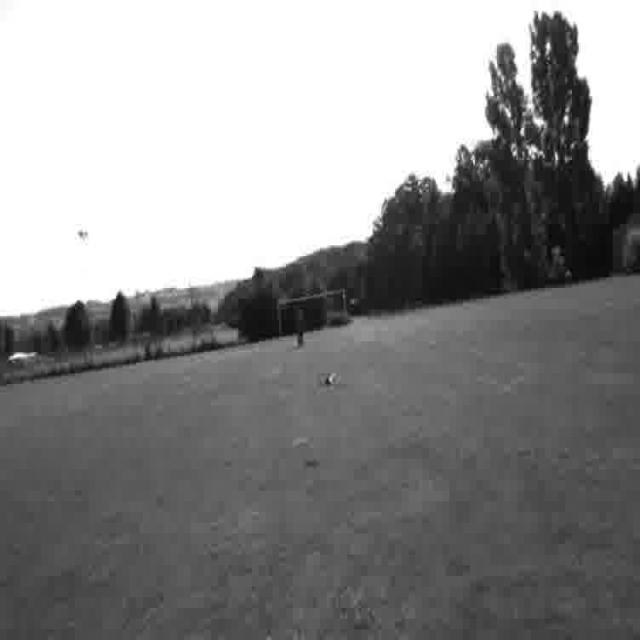drones: (318, 361, 347, 396)
